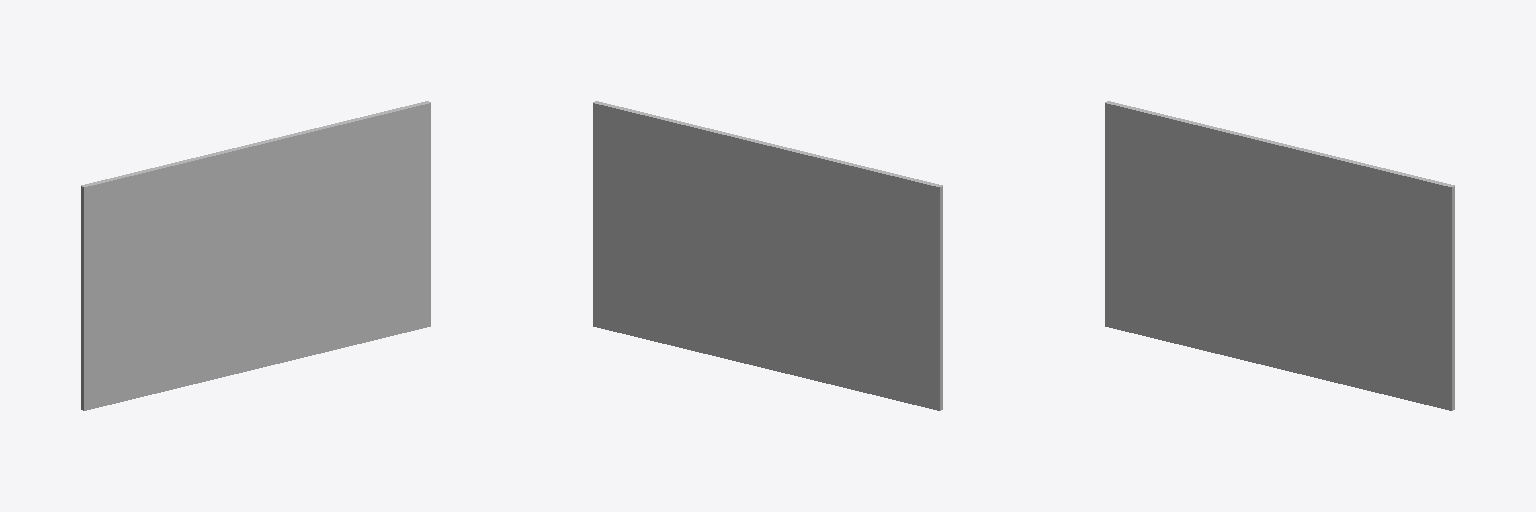
File: new50ShadesOfAmerica4.obj
3 views of the same model, side by side, from view 1: azimuth 30°, elevation 25°; view 2: azimuth 150°, elevation 25°; view 3: azimuth 330°, elevation 25° (orthographic).
Size of the model in its own units: 130 by 79.95 by 1.91.